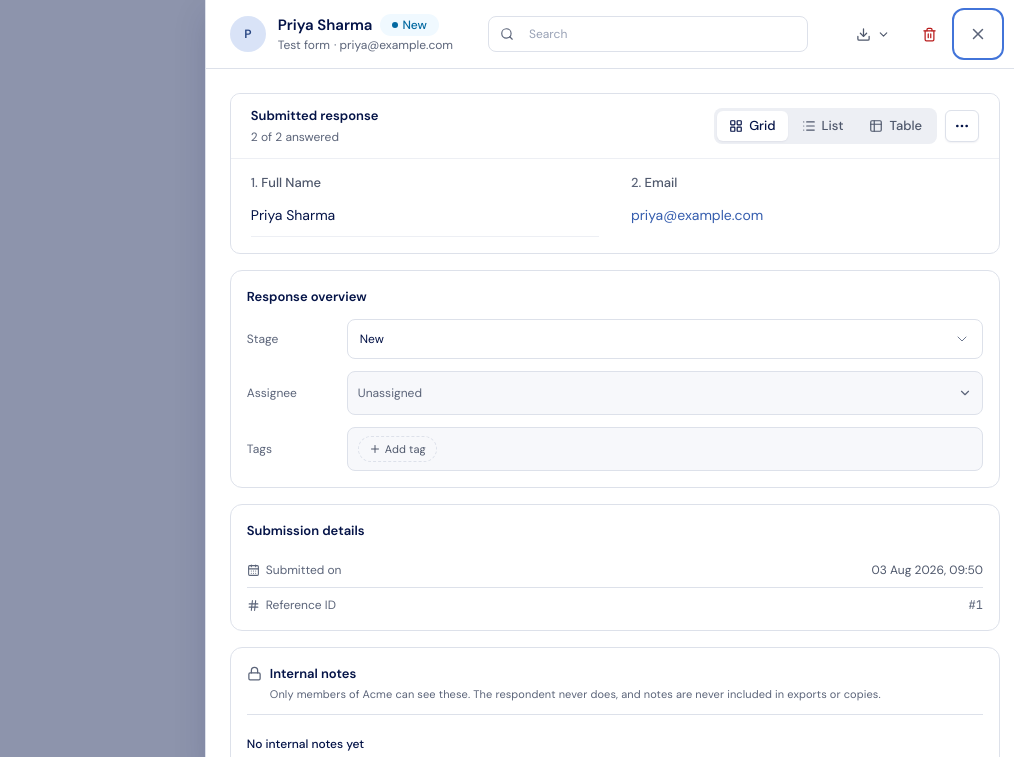
Scenario: ResponseDrawer › creating a tag puts it in the cached tag library, adds it to the response, and closes the picker
Expected: the heading "Submitted response" is shown, [251, 106, 378, 126]
Click the button "Add tag".
click(397, 449)  # box [358, 436, 437, 462]
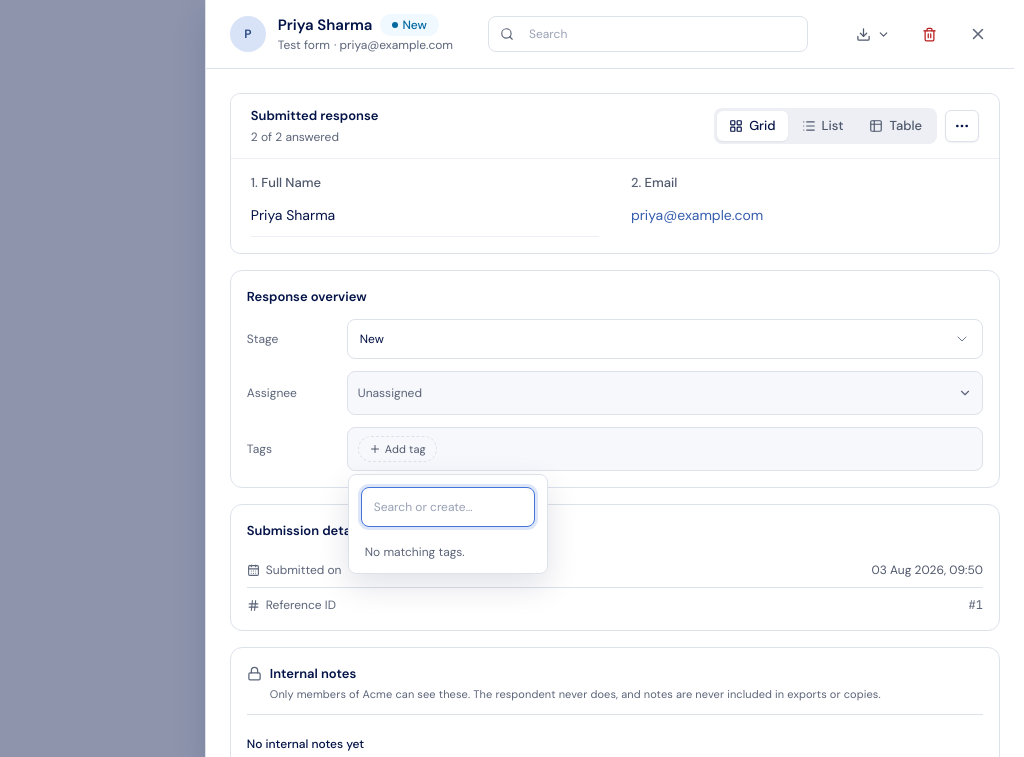
Type "Brand new" into the field named "Search tags".
click(448, 507); type("Brand new")  # box [361, 487, 535, 527]
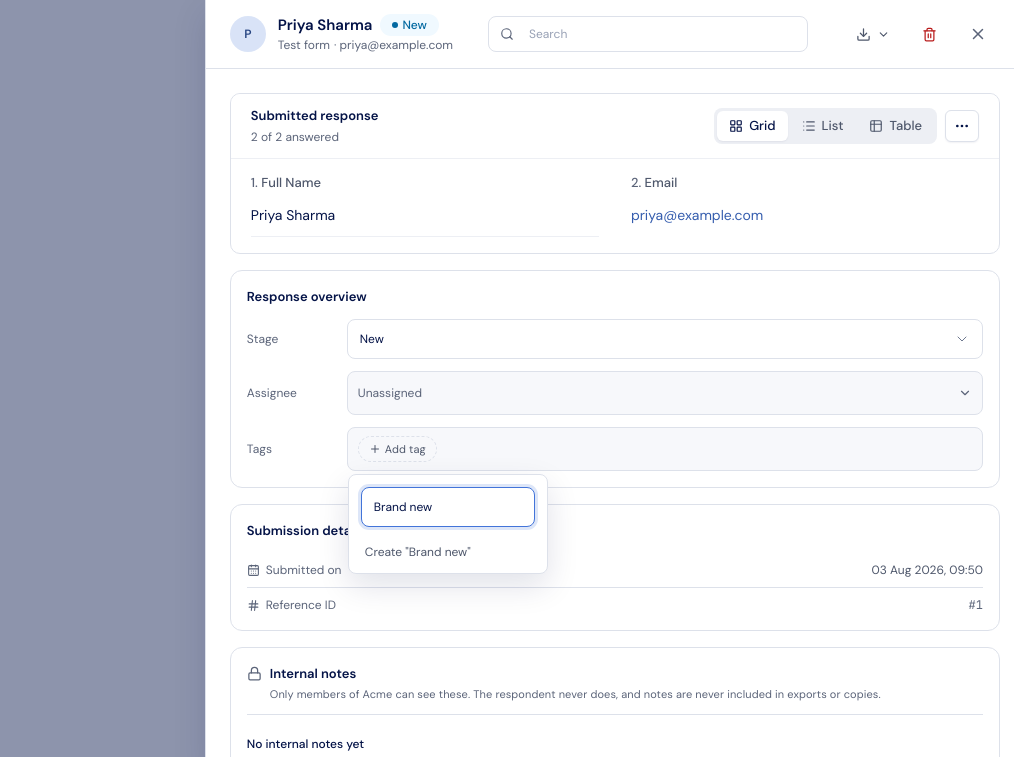
Click the button "Create \"Brand new\"".
click(448, 552)  # box [353, 535, 543, 569]
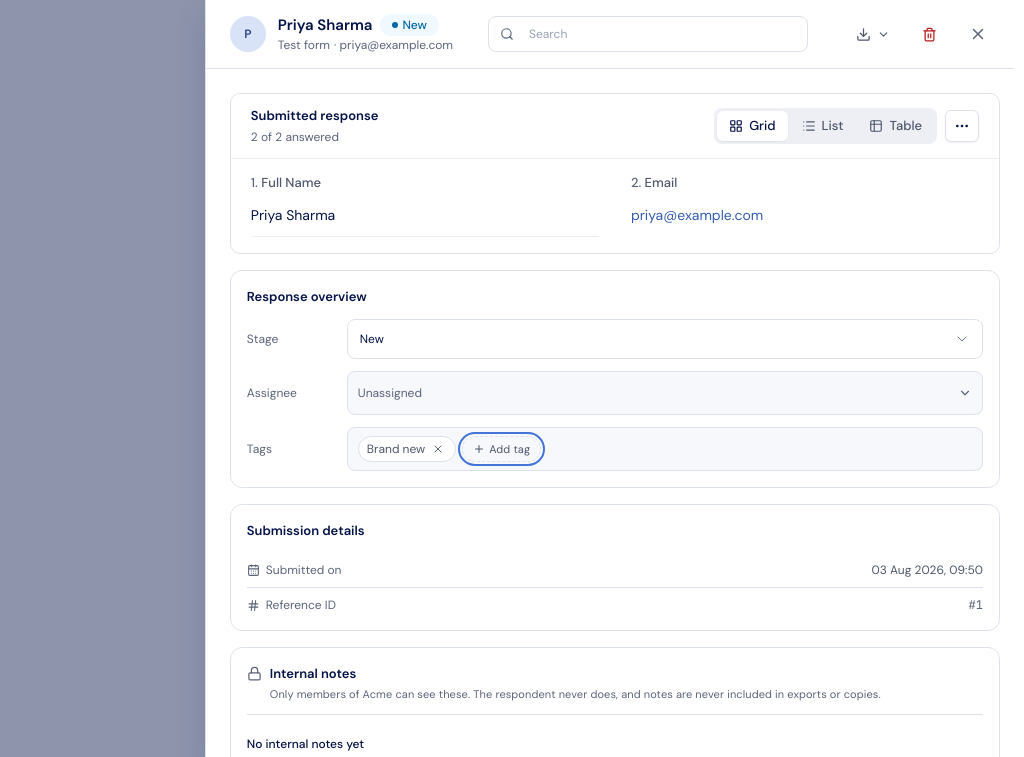
Expected: the list is gone
Expected: the button named "Remove tag Brand new" is shown, [429, 440, 447, 458]
